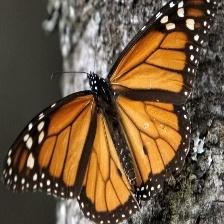butterfly: (3, 0, 216, 224)
